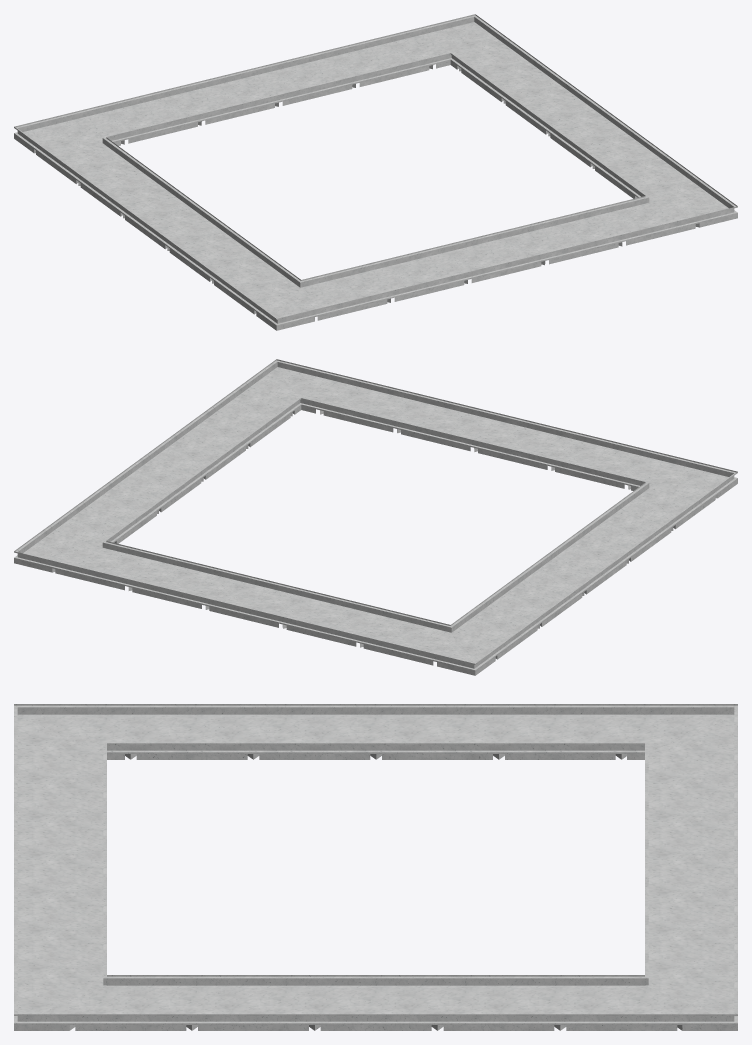
File: Stadium_Ceiling_Cove.FBX
3 renders of one model, top to bottom at view 1: azimuth 30°, elevation 25°; view 2: azimuth 150°, elevation 25°; view 3: azimuth 270°, elevation 25°, orthographic. The views are drawn at different scales.
Visible parts, largest first — view 1: Stadium_Ceiling_Cove; view 2: Stadium_Ceiling_Cove; view 3: Stadium_Ceiling_Cove.
Part boxes in pixels (box(x1,y1,x2,y2)): Stadium_Ceiling_Cove: box(14, 14, 737, 330); Stadium_Ceiling_Cove: box(14, 359, 737, 675); Stadium_Ceiling_Cove: box(14, 704, 737, 1030).
Bounding box in the file's own units: 58497 × 1452 × 57663.
